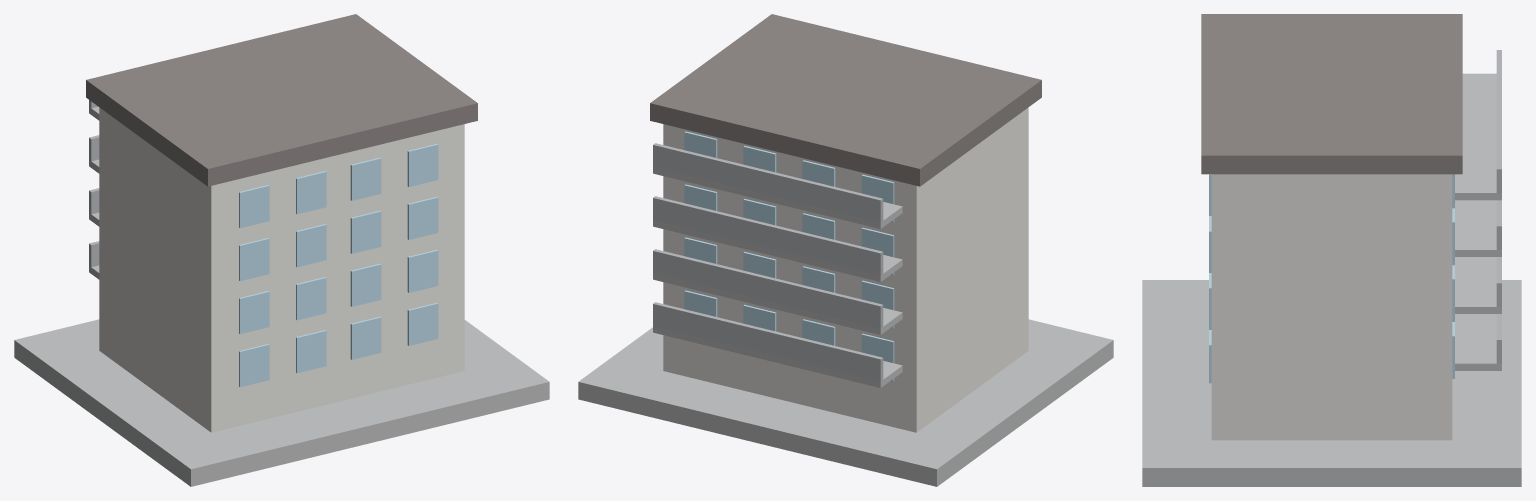
The model's file is apartment.glb.
3 renders of one model, left to right at view 1: azimuth 30°, elevation 25°; view 2: azimuth 150°, elevation 25°; view 3: azimuth 270°, elevation 25°, orthographic. The views are drawn at different scales.
Parts seen in each view (by area): view 1: apartment_body, flat_roof, base, rear_window_0_2, rear_window_0_3, rear_window_1_2, rear_window_1_3, rear_window_2_2, rear_window_2_3, rear_window_3_2, rear_window_3_3, rear_window_0_0 (+7 smaller); view 2: apartment_body, flat_roof, base, balcony_rail_1, balcony_rail_2, balcony_rail_0, balcony_rail_3, balcony_slab_1, balcony_slab_2, balcony_slab_3, balcony_slab_0, balcony_door_0_0 (+15 smaller); view 3: apartment_body, flat_roof, base, balcony_slab_3, balcony_slab_0, balcony_slab_1, balcony_slab_2, balcony_rail_3.
Boxes of the visible parts, box(x1,y1,x2,y2) form: apartment_body: box(99, 107, 464, 432); flat_roof: box(86, 14, 477, 186); base: box(14, 319, 549, 486); rear_window_0_2: box(350, 316, 381, 359); rear_window_0_3: box(407, 303, 438, 345); rear_window_1_2: box(350, 263, 381, 306); rear_window_1_3: box(407, 250, 438, 292); rear_window_2_2: box(350, 210, 381, 253); rear_window_2_3: box(407, 197, 438, 239); rear_window_3_2: box(350, 157, 381, 200); rear_window_3_3: box(407, 144, 438, 186); rear_window_0_0: box(239, 344, 269, 387); apartment_body: box(663, 107, 1028, 432); flat_roof: box(650, 14, 1041, 186); base: box(578, 319, 1113, 486); balcony_rail_1: box(653, 249, 883, 328); balcony_rail_2: box(653, 196, 883, 275); balcony_rail_0: box(653, 302, 883, 381); balcony_rail_3: box(653, 143, 883, 222); balcony_slab_1: box(653, 273, 902, 334); balcony_slab_2: box(653, 220, 902, 281); balcony_slab_3: box(653, 167, 902, 228); balcony_slab_0: box(653, 326, 902, 387); balcony_door_0_0: box(861, 333, 894, 381); apartment_body: box(1211, 174, 1452, 440); flat_roof: box(1201, 14, 1462, 174); base: box(1142, 280, 1521, 486); balcony_slab_3: box(1455, 73, 1501, 200); balcony_slab_0: box(1455, 314, 1501, 370); balcony_slab_1: box(1455, 257, 1501, 313); balcony_slab_2: box(1455, 200, 1501, 256); balcony_rail_3: box(1496, 50, 1501, 192).
Size of the model in its own units: 1.7 by 1.3 by 1.45.
